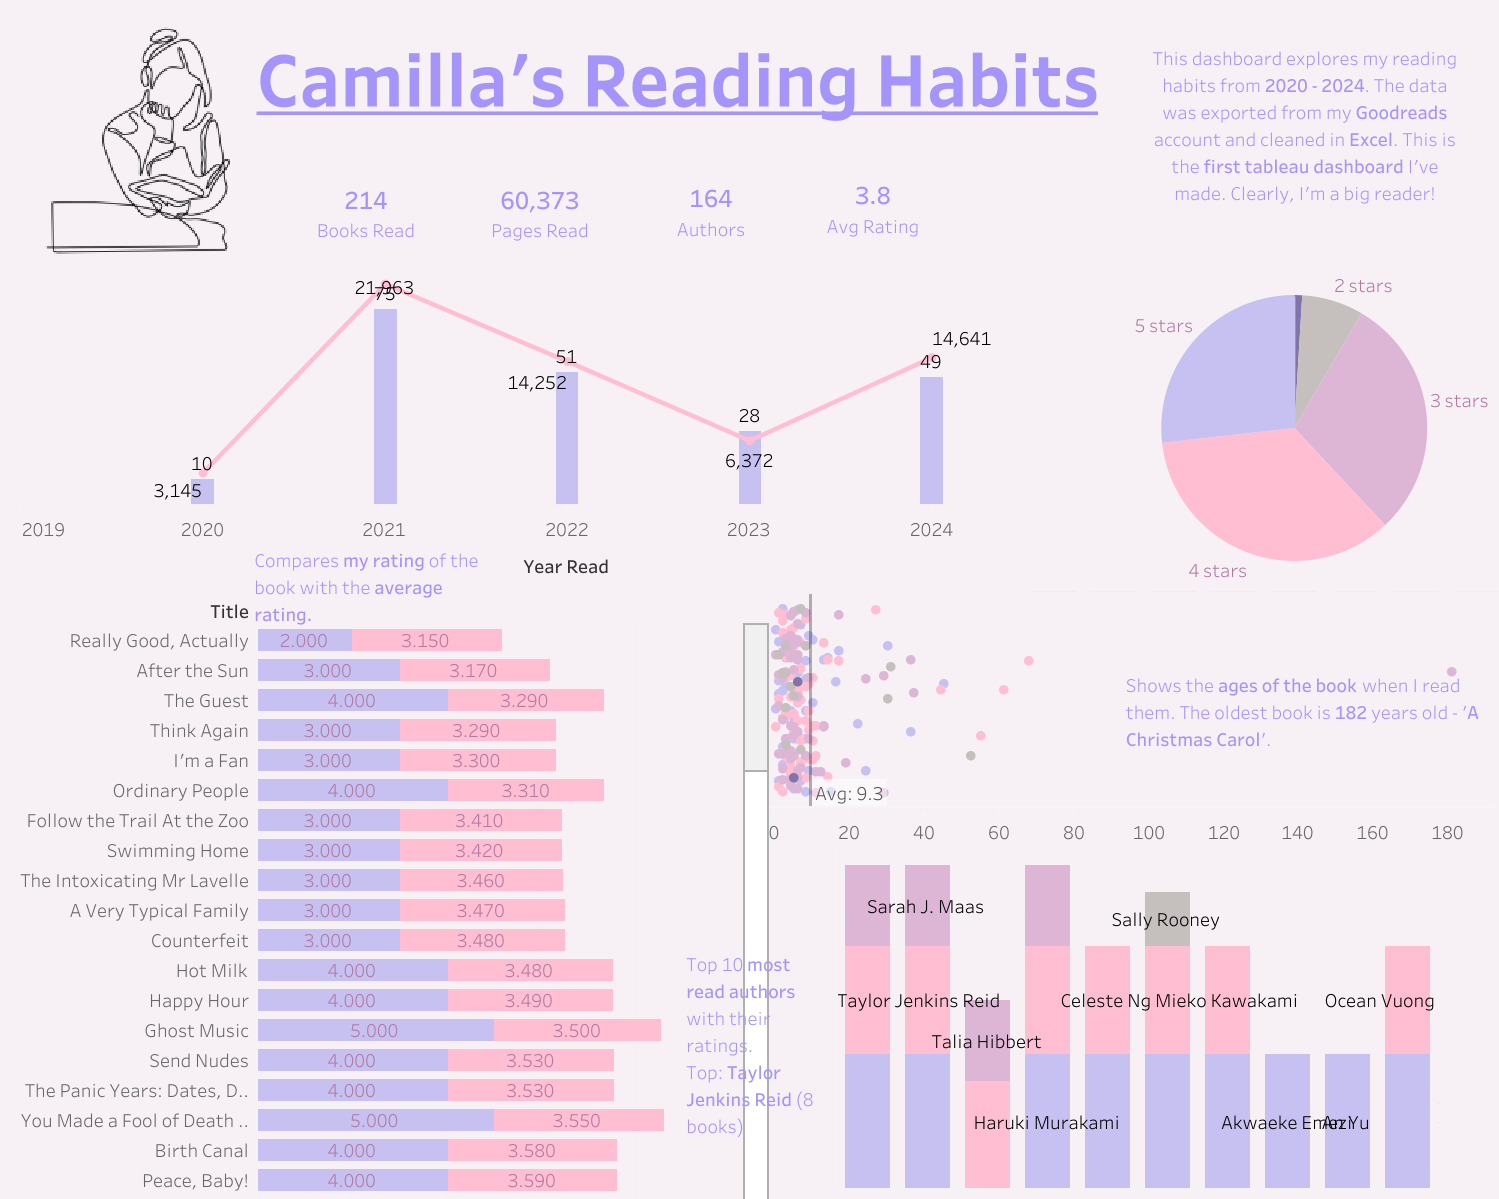

What the dashboard file says about the page in this screenshot:
{"tool":"tableau","page":{"name":"Camilla's Reading Habits (2)","canvas":[1000,800],"ordinal":1},"visuals":[{"type":"text","box":[0,0,1000,800]},{"type":"image","param":"Image/Screenshot 2024-11-25 165508.png","box":[6,8,250,172]},{"type":"text","box":[750,8,214,199]},{"type":"text","box":[102,13,700,76]},{"type":"text","box":[532,73,100,95]},{"type":"text","box":[424,75,100,95]},{"type":"text","box":[194,121,100,41]},{"type":"text","box":[310,121,100,41]},{"type":"worksheet","title":"Yearly Progression of Books and Pages","mark":"Line","rows":["Calculation_1055548641796133","Number of Pages"],"cols":["Year Read"],"box":[13,180,729,213]},{"type":"text","box":[167,358,170,65]},{"type":"worksheet","title":"Rating Comparison","mark":"Bar","rows":["Title"],"box":[11,396,502,408]},{"type":"worksheet","title":"Age of Books","mark":"Circle","rows":["Calculation_1055549140545870"],"cols":["Calculation_1055549136384333"],"box":[489,396,506,199]},{"type":"text","box":[748,447,249,54]},{"type":"text","box":[455,601,100,190]}]}

Visuals, with their boxes in screenshot pixels (x1, y1, x2, y2), scaled from the page's 1000x800 canvas onto the 1499x1199 screenshot:
text: (x1=0, y1=0, x2=1498, y2=1198)
image: (x1=9, y1=12, x2=384, y2=270)
text: (x1=1124, y1=12, x2=1445, y2=310)
text: (x1=153, y1=19, x2=1202, y2=133)
text: (x1=797, y1=109, x2=947, y2=252)
text: (x1=636, y1=112, x2=785, y2=255)
text: (x1=291, y1=181, x2=441, y2=243)
text: (x1=465, y1=181, x2=615, y2=243)
"Yearly Progression of Books and Pages" worksheet (Line marks): (x1=19, y1=270, x2=1112, y2=589)
text: (x1=250, y1=537, x2=505, y2=634)
"Rating Comparison" worksheet (Bar marks): (x1=16, y1=594, x2=769, y2=1198)
"Age of Books" worksheet (Circle marks): (x1=733, y1=594, x2=1492, y2=892)
text: (x1=1121, y1=670, x2=1495, y2=751)
text: (x1=682, y1=901, x2=832, y2=1186)
